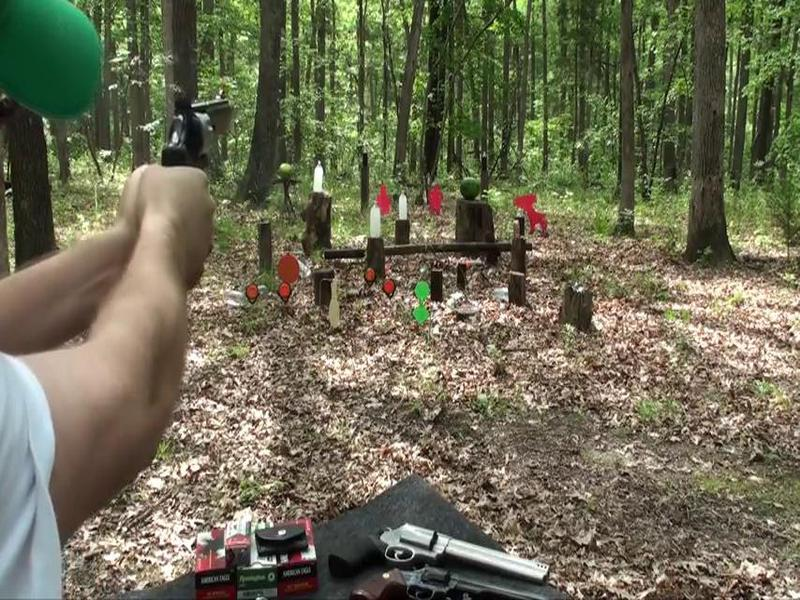Revolver: (143, 74, 257, 214)
